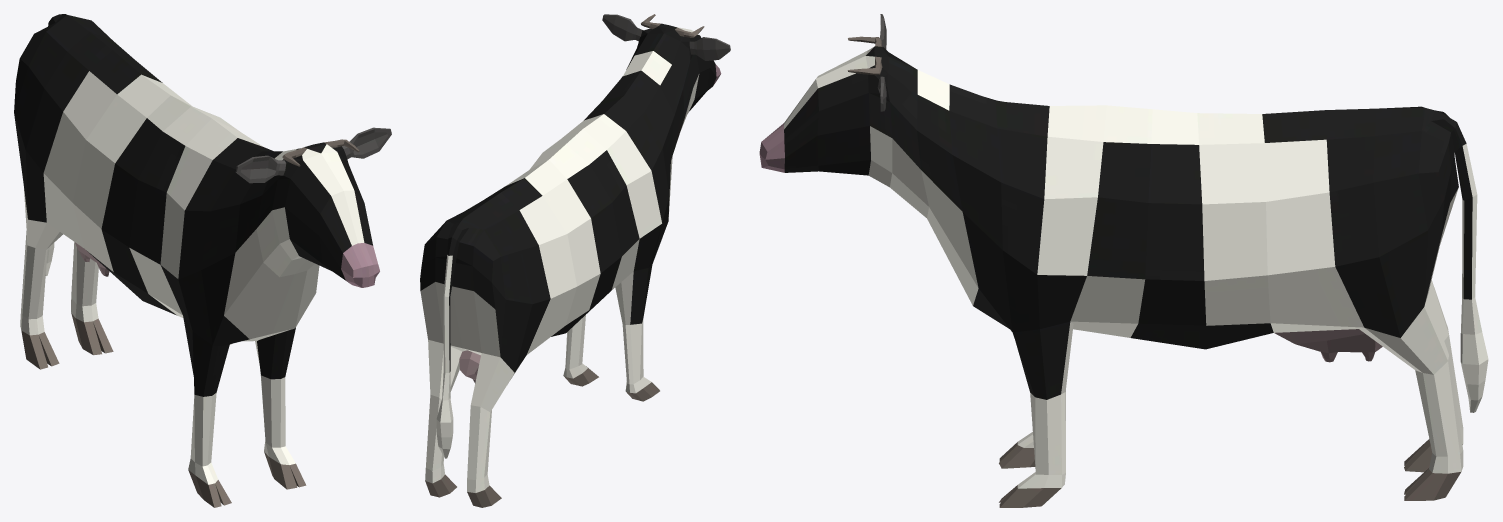
Rendered from prop_pa_cow.glb.
3 renders of one model, left to right at view 1: azimuth 30°, elevation 25°; view 2: azimuth 150°, elevation 25°; view 3: azimuth 270°, elevation 25°, orthographic. The views are drawn at different scales.
Parts seen in each view (by area): view 1: 13cowFinal; view 2: 13cowFinal; view 3: 13cowFinal.
Boxes of the visible parts, box(x1,y1,x2,y2) form: 13cowFinal: box(14, 14, 391, 507); 13cowFinal: box(420, 14, 730, 507); 13cowFinal: box(759, 14, 1488, 507).
Bounding box in the file's own units: 0.6881 × 1.66 × 2.54.
1 material, 1 textured.
